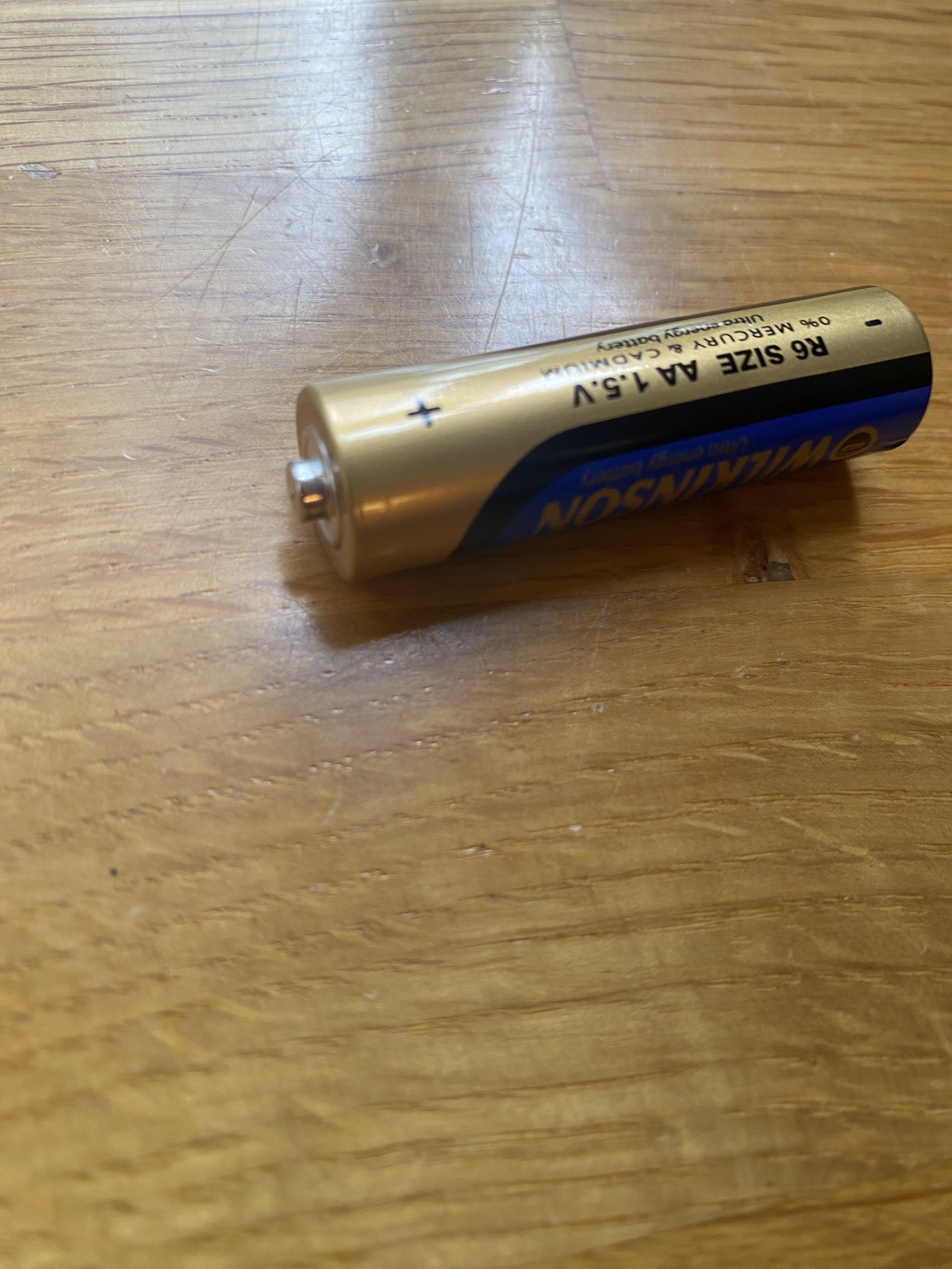AA: (286, 282, 933, 585)
